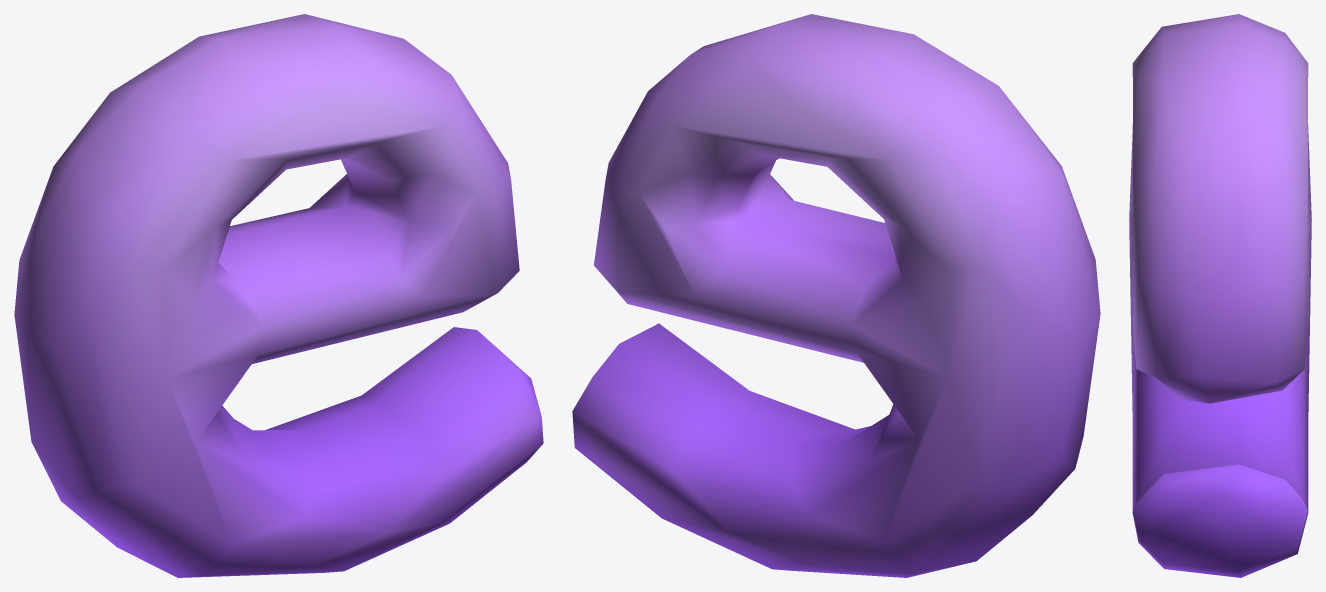
The picture shows the model from 3 angles, left to right: view 1: azimuth 30°, elevation 25°; view 2: azimuth 150°, elevation 25°; view 3: azimuth 270°, elevation 25°; orthographic projection. The views are drawn at different scales.
Visible parts, largest first — view 1: Processed_Mesh0_Geometry; view 2: Processed_Mesh0_Geometry; view 3: Processed_Mesh0_Geometry.
Part boxes in pixels (<box>): Processed_Mesh0_Geometry: <box>14,14,543,577</box>; Processed_Mesh0_Geometry: <box>572,14,1100,577</box>; Processed_Mesh0_Geometry: <box>1129,14,1311,577</box>.
Size of what is drawn, in the model's own units: 0.054 by 0.0573 by 0.0194.
1 material, 1 textured.
